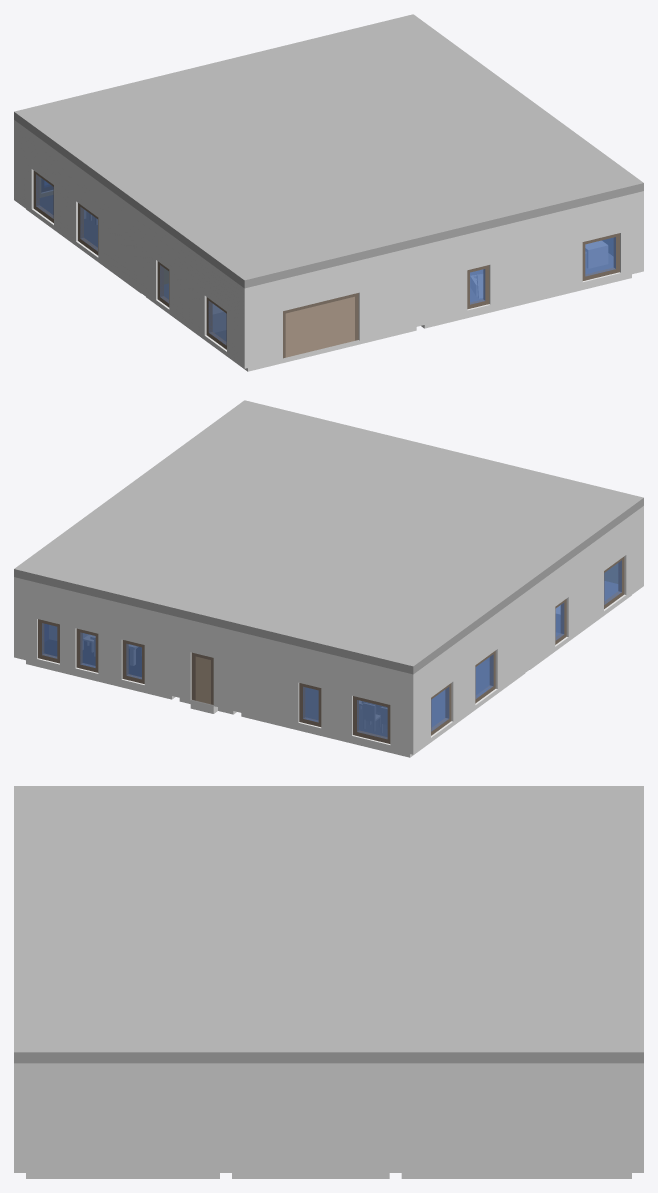
File: wereld_n.fbx
The picture shows the model from 3 angles, top to bottom: view 1: azimuth 30°, elevation 25°; view 2: azimuth 150°, elevation 25°; view 3: azimuth 270°, elevation 25°; orthographic projection. The views are drawn at different scales.
Parts seen in each view (by area): view 1: n_dak1, woning1_1, n_ondergrond1, n_raam_d4, n_deur5, n_deur7, n_deur2, n_kozijn_r1_5, n_deur1, n_raam_d3, n_raam_d1, n_raam_d2 (+4 smaller); view 2: n_dak1, woning1_1, n_ondergrond1, n_raam_d5, n_deur11, n_kozijn_r1_4, n_raam_d1, n_raam_d2, n_raam_d3, n_kozijn_r2, n_kozijn_r1, n_kozijn_r6 (+5 smaller); view 3: n_dak1, woning1_1, n_ondergrond1.
Boxes of the visible parts, bbox=[...] form: n_dak1: bbox=[14, 14, 643, 288]; woning1_1: bbox=[14, 120, 643, 368]; n_ondergrond1: bbox=[26, 195, 631, 371]; n_raam_d4: bbox=[585, 237, 615, 276]; n_deur5: bbox=[339, 296, 354, 344]; n_deur7: bbox=[308, 304, 323, 351]; n_deur2: bbox=[293, 308, 308, 355]; n_kozijn_r1_5: bbox=[582, 233, 619, 280]; n_deur1: bbox=[324, 300, 339, 348]; n_raam_d3: bbox=[208, 301, 226, 345]; n_raam_d1: bbox=[80, 207, 97, 251]; n_raam_d2: bbox=[36, 174, 53, 218]; n_dak1: bbox=[14, 400, 643, 674]; woning1_1: bbox=[14, 506, 643, 754]; n_ondergrond1: bbox=[26, 581, 631, 757]; n_raam_d5: bbox=[357, 700, 387, 738]; n_deur11: bbox=[195, 656, 210, 704]; n_kozijn_r1_4: bbox=[353, 696, 390, 743]; n_raam_d1: bbox=[475, 654, 493, 698]; n_raam_d2: bbox=[431, 687, 449, 731]; n_raam_d3: bbox=[604, 560, 621, 604]; n_kozijn_r2: bbox=[299, 683, 321, 726]; n_kozijn_r1: bbox=[76, 628, 98, 672]; n_kozijn_r6: bbox=[122, 640, 144, 683]; n_dak1: bbox=[14, 786, 643, 1063]; woning1_1: bbox=[14, 1063, 643, 1172]; n_ondergrond1: bbox=[26, 1173, 631, 1178].
Bounding box in the file's own units: 52 × 12 × 52.
